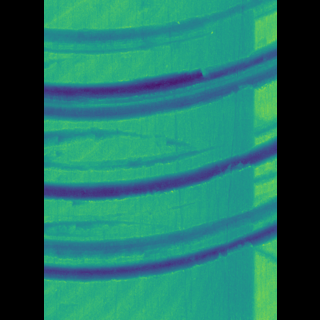Loch: (75, 192, 246, 284), (75, 35, 245, 124), (75, 133, 246, 205), (74, 0, 244, 57), (74, 124, 197, 173)
